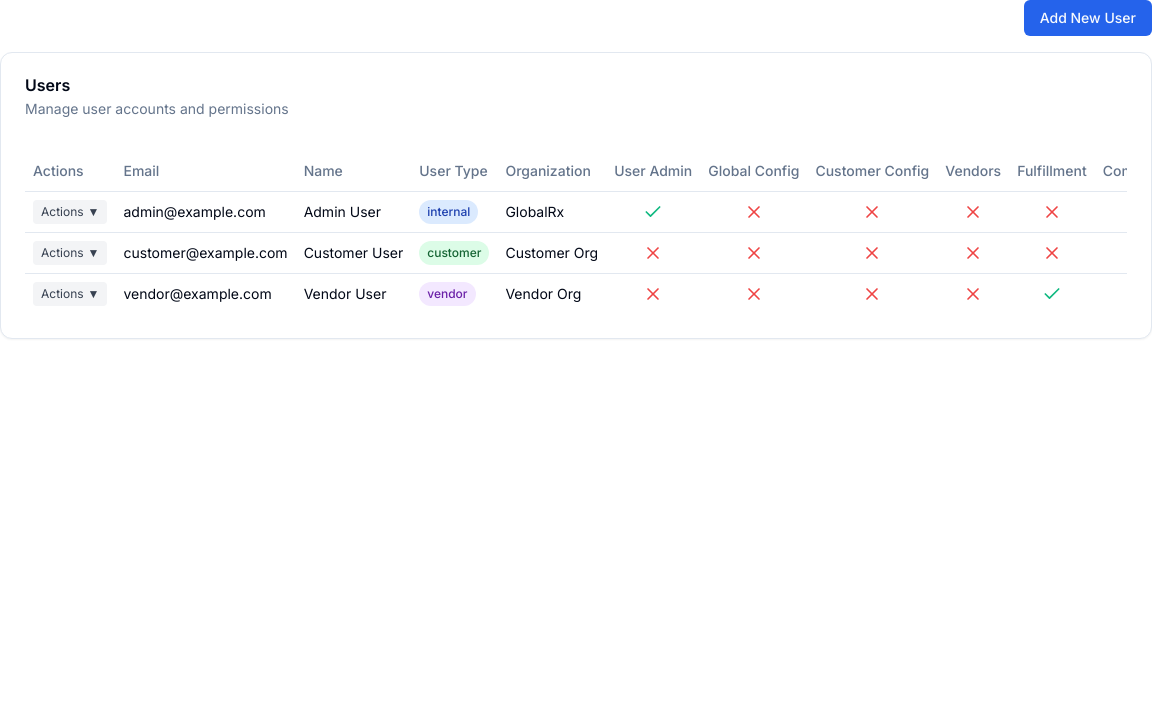
Scenario: UserAdminContent › delete user › should remove user from list when deleted successfully
expect the text "admin@example.com" is shown: met, box x1=116 y1=191 x2=296 y2=232
Note: Open delete confirmation
Click the button "Actions ▼" next to "admin@example.com" at x=70, y=212, box x1=33 y1=200 x2=108 y2=224
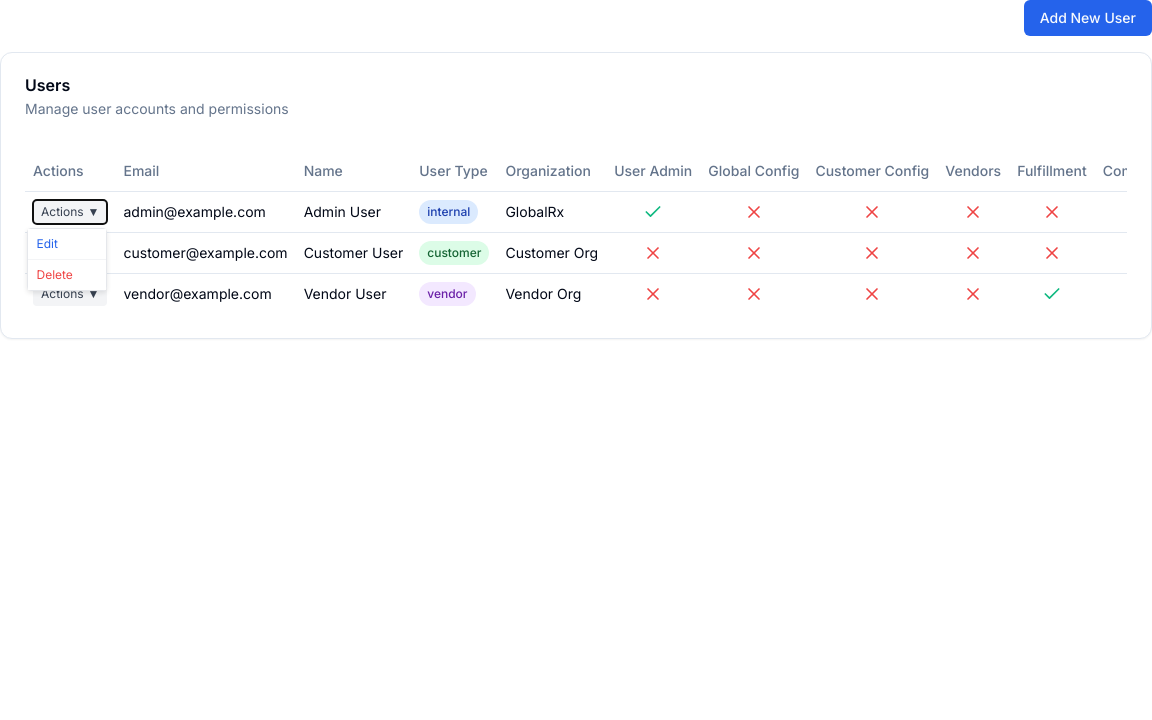
Click the button "Delete" at x=68, y=274, box x1=28 y1=260 x2=106 y2=290
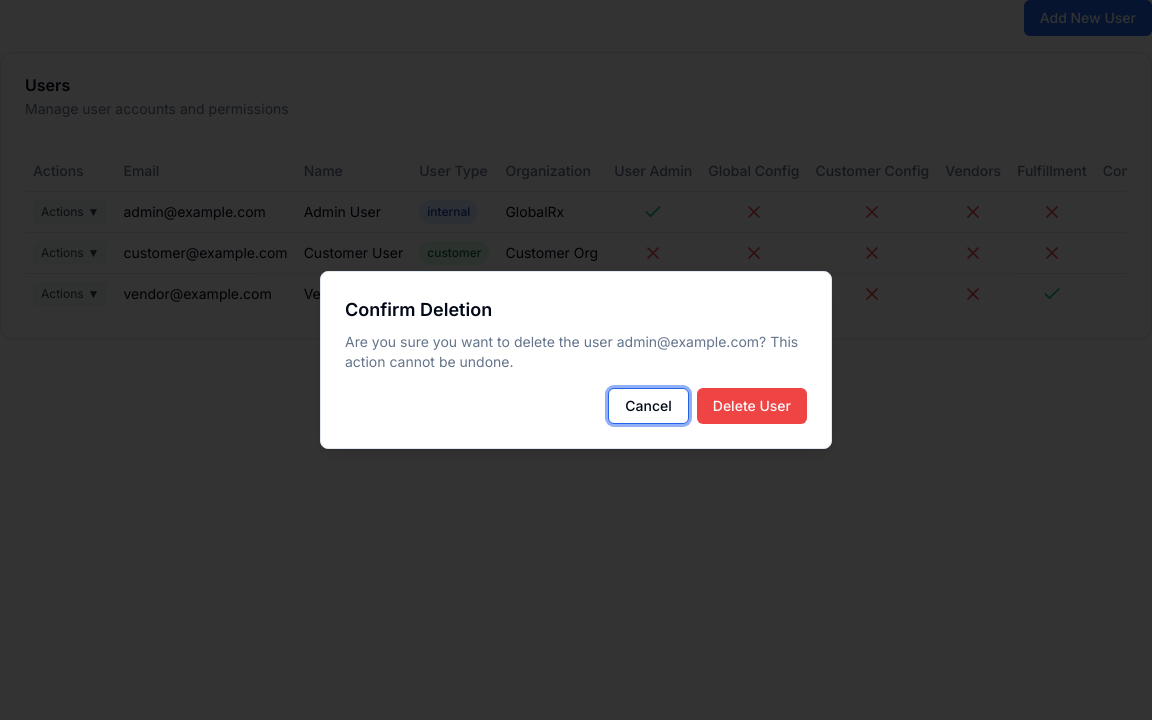
Note: Confirm deletion
Click the button "Delete User" at x=752, y=406, box x1=697 y1=388 x2=807 y2=424
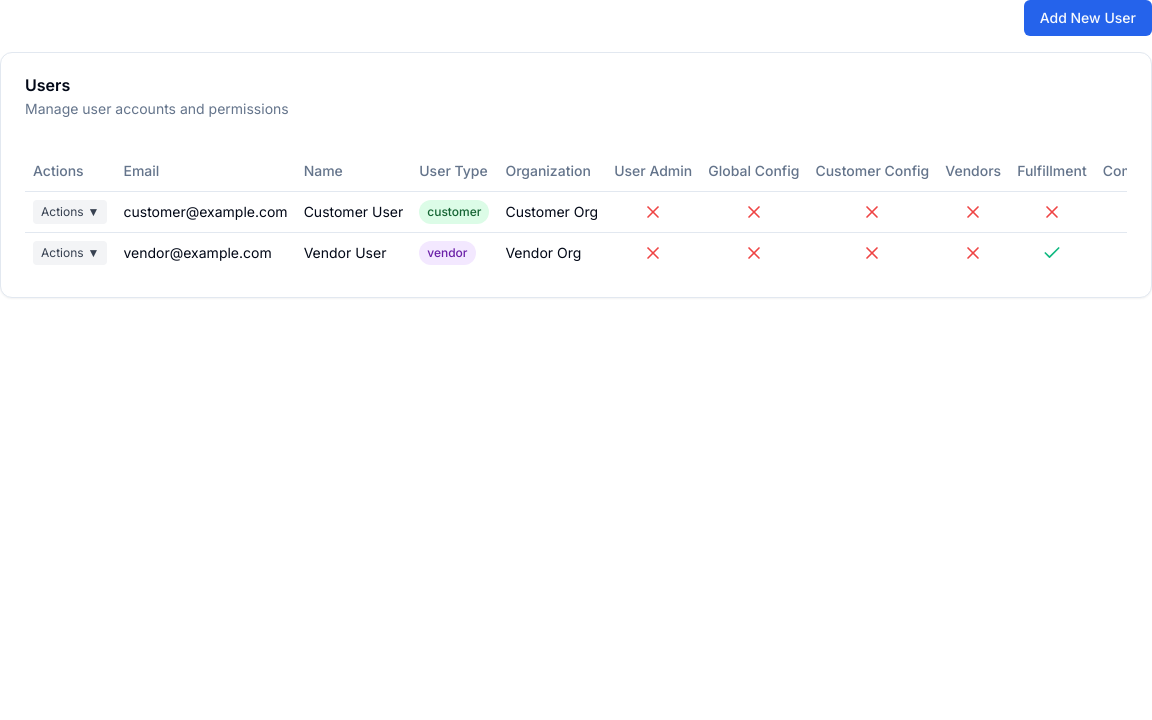
expect the text "admin@example.com" is gone: met
